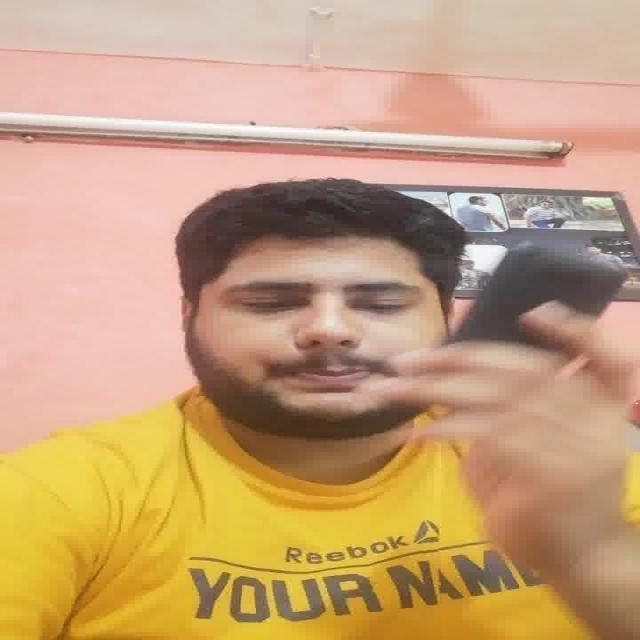Phone: (447, 242, 627, 348)
